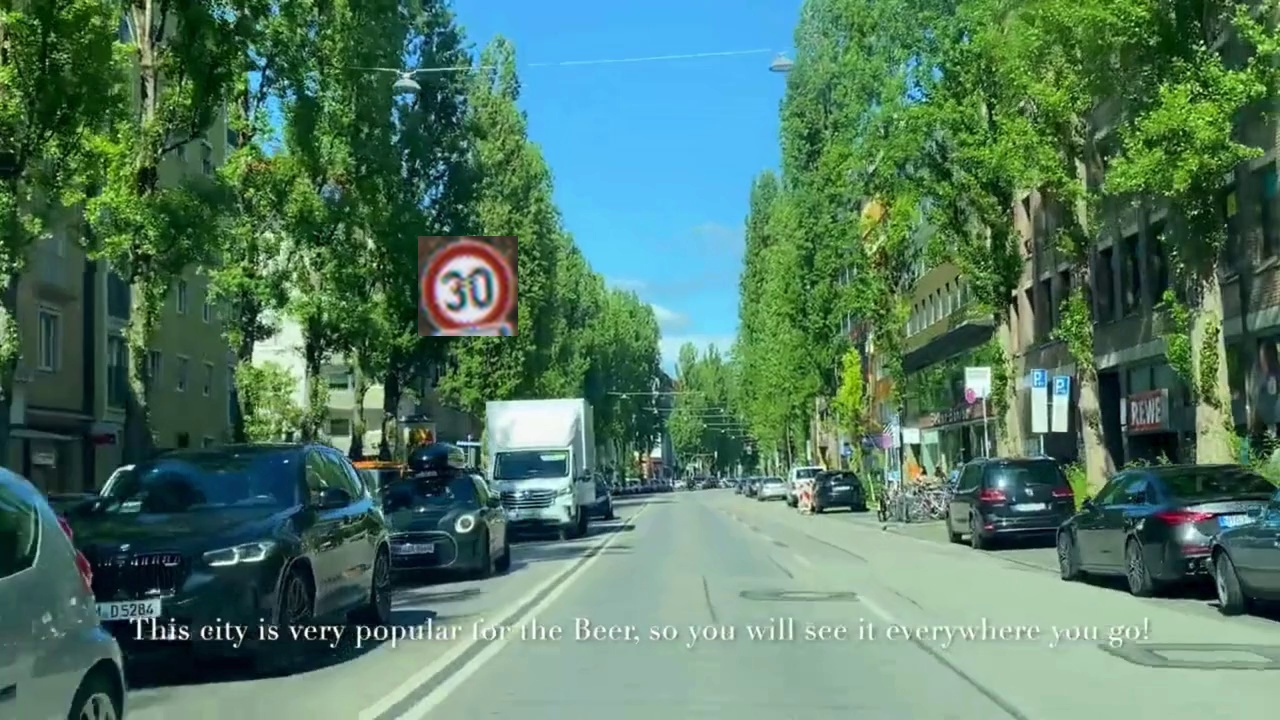Speed 30: (418, 236, 518, 336)
